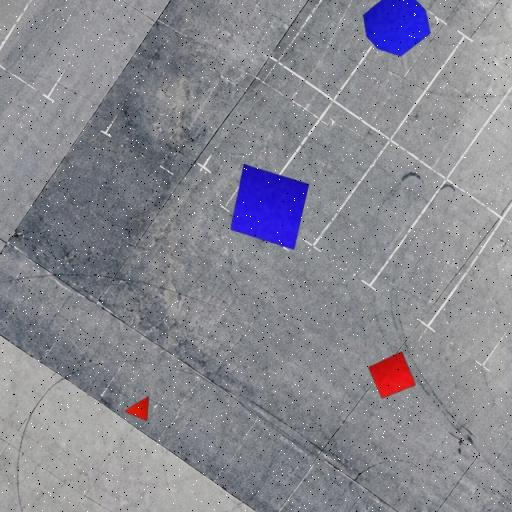BLUE_SQUARE: (230, 164, 310, 250)
RED_SQUARE: (367, 351, 417, 399)
